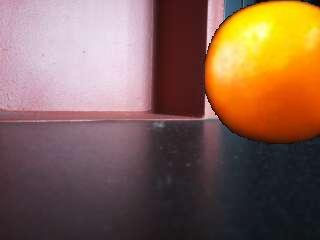Orange: (204, 1, 320, 145)
